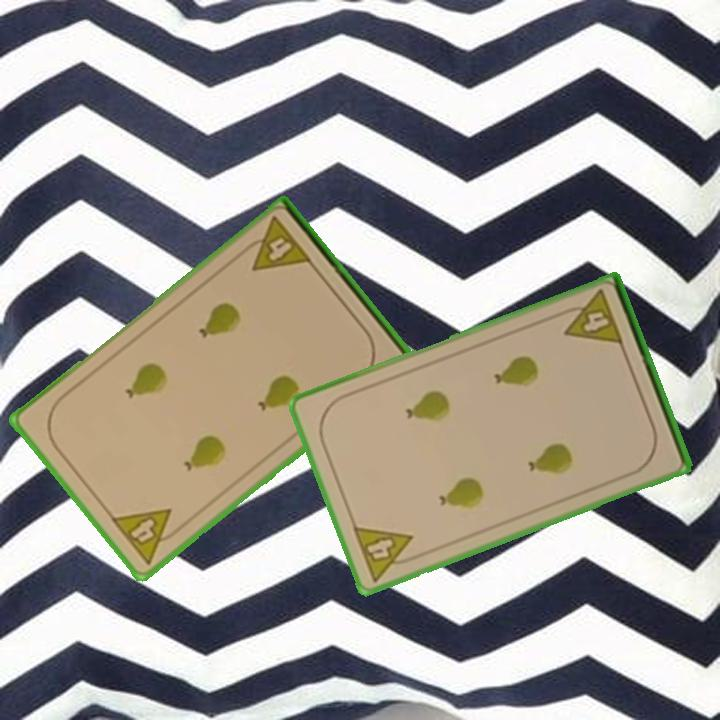4p: (107, 505, 187, 568), (237, 213, 315, 275), (349, 522, 423, 585), (555, 286, 626, 349)
